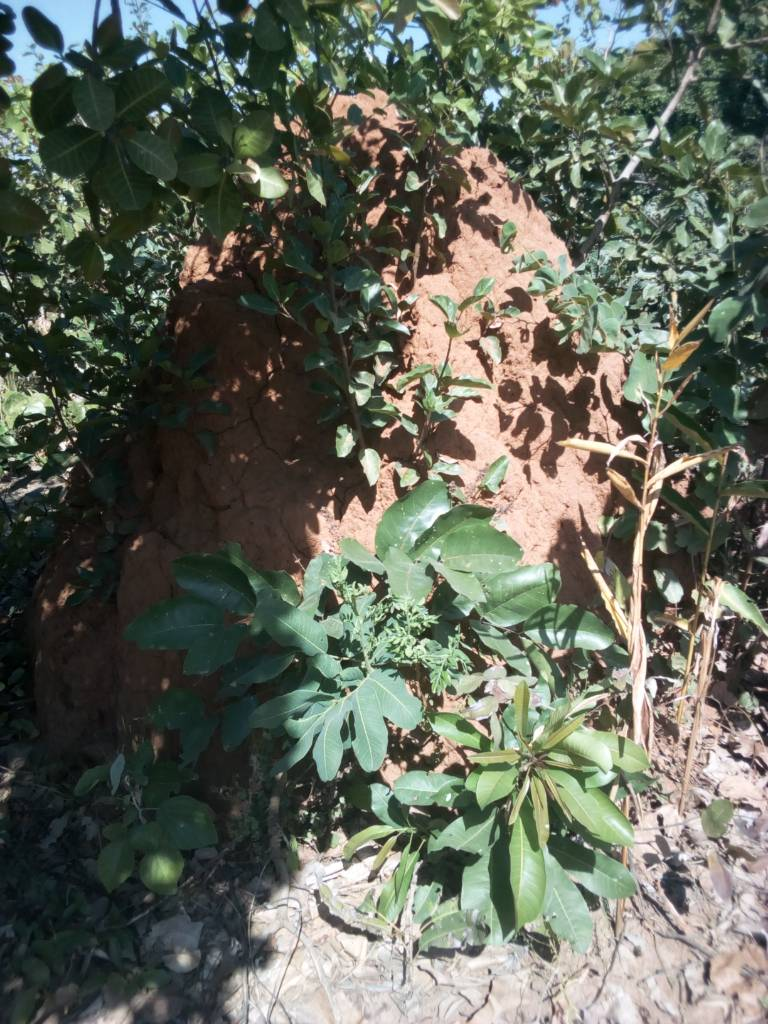Termites: (207, 316, 315, 550), (493, 355, 605, 521)
